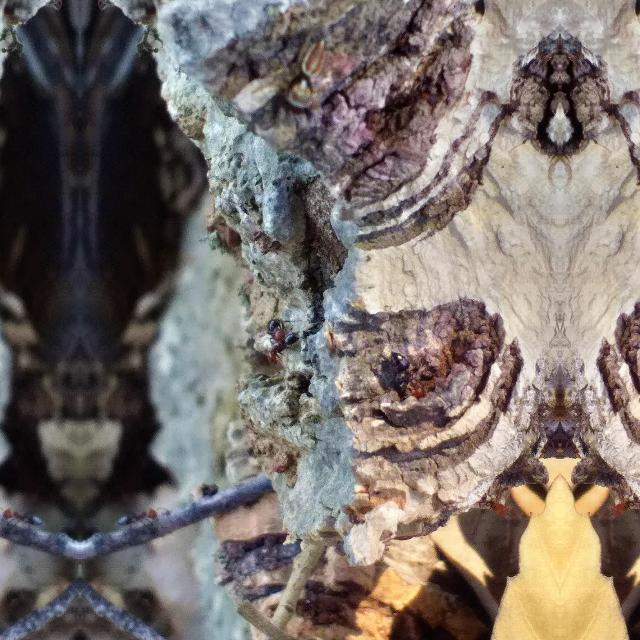Crematogaster: (381, 344, 433, 406), (262, 326, 302, 366), (255, 312, 289, 346)
